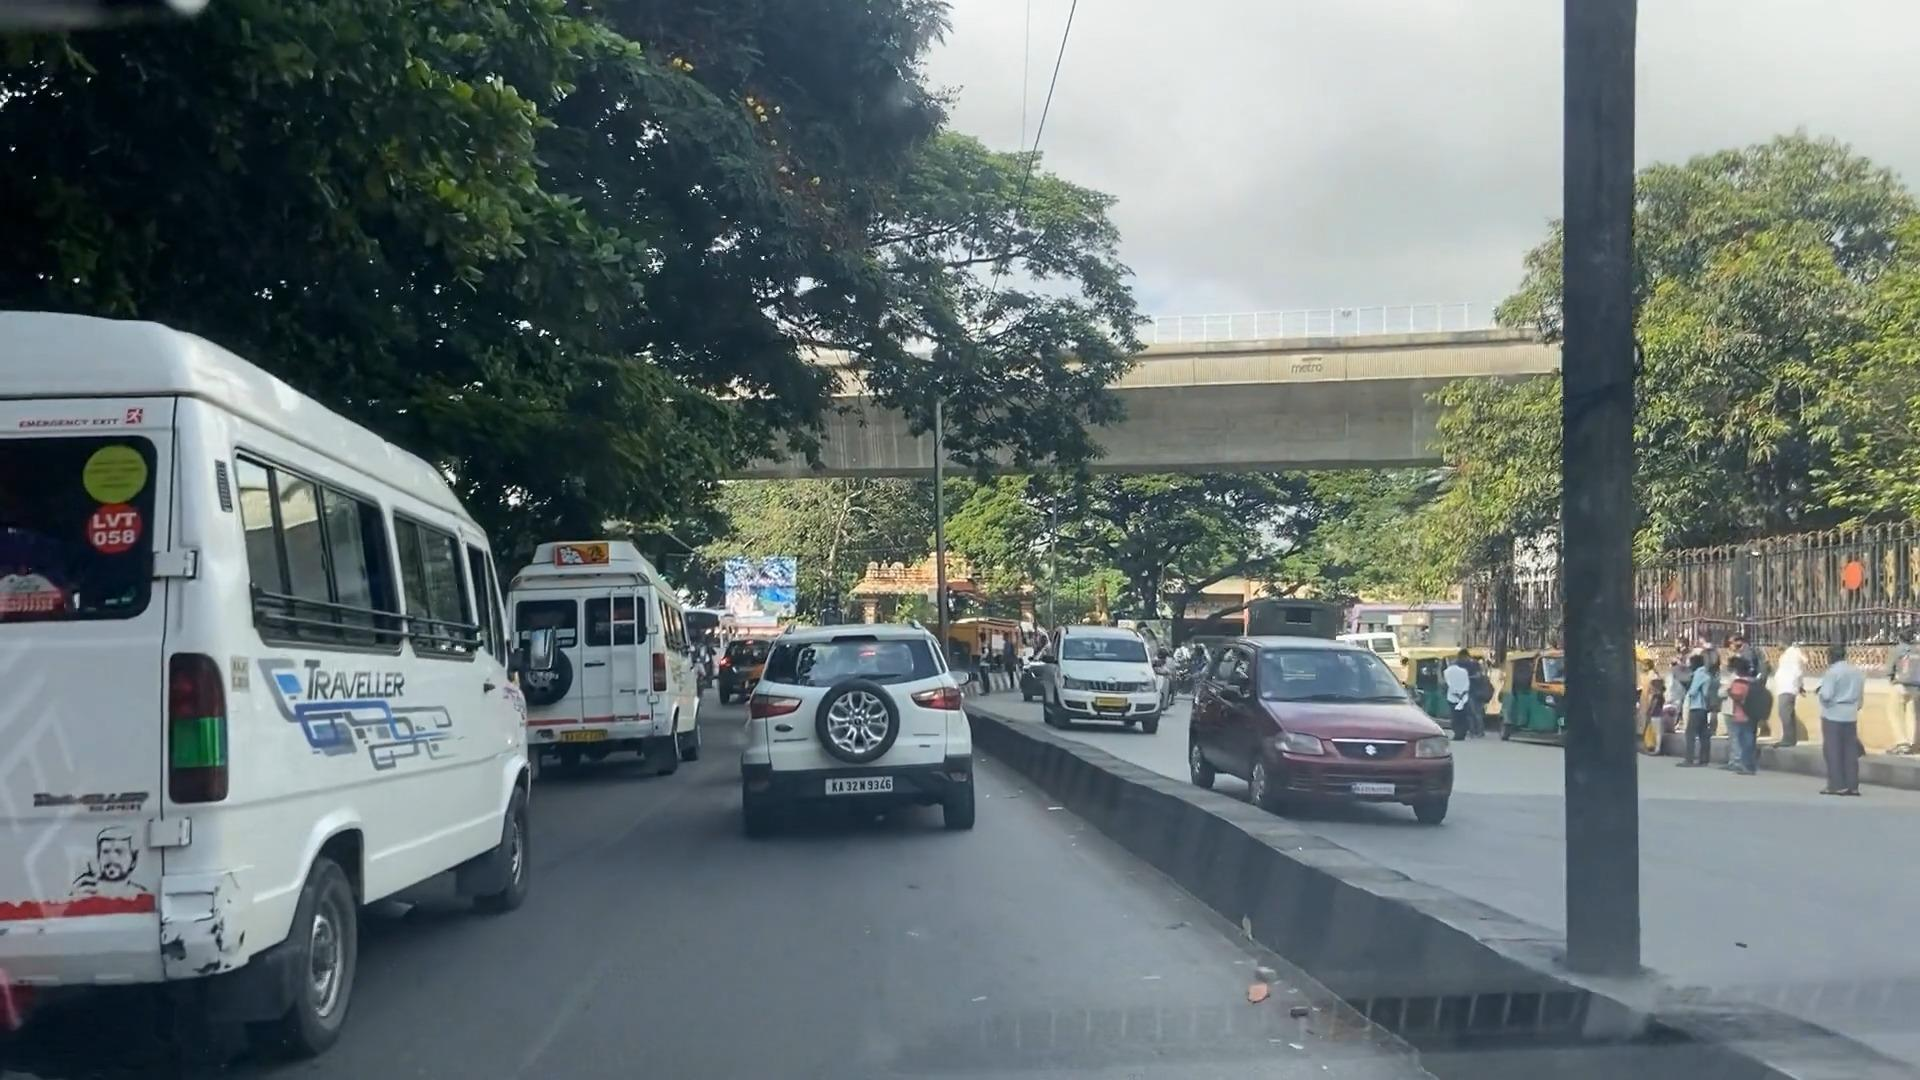LMV: (758, 628, 981, 856)
